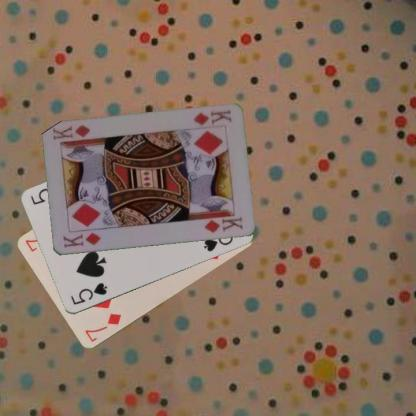5s: (68, 280, 108, 306)
7d: (82, 311, 123, 344)
Kd: (60, 230, 102, 250), (191, 108, 232, 127)
